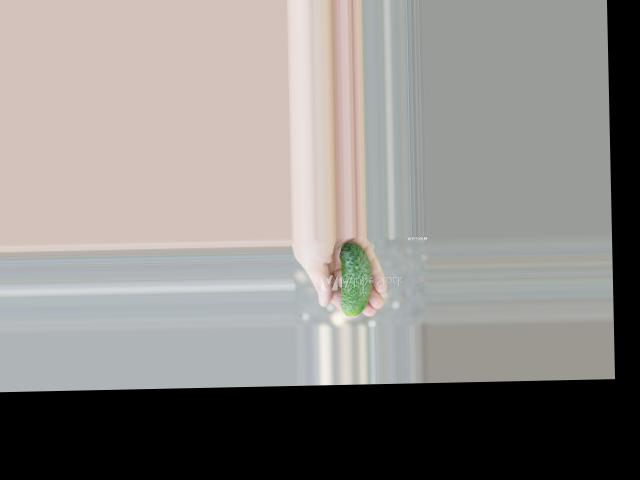cucumber: (340, 241, 373, 315)
